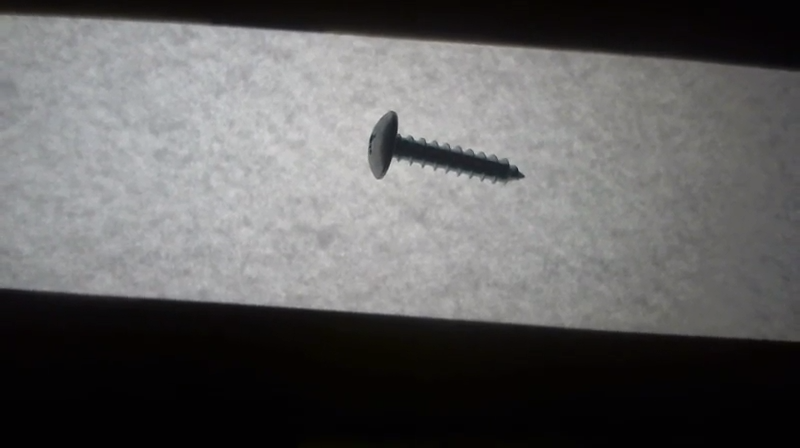S003: (363, 107, 527, 189)
